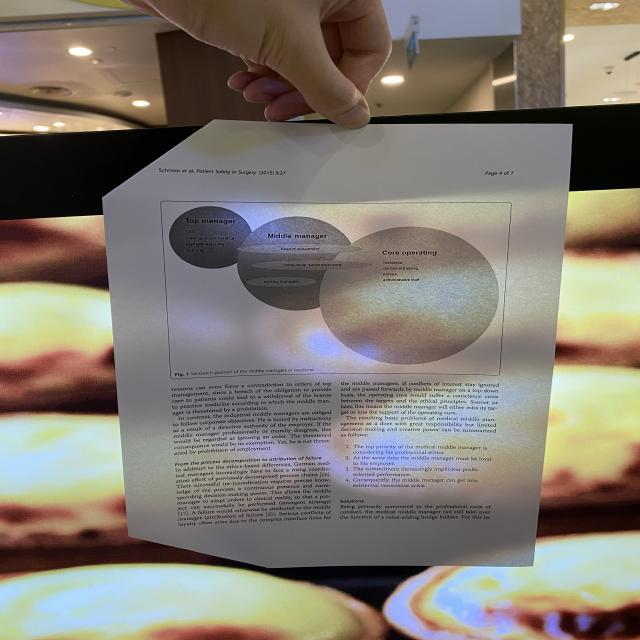document: (103, 120, 572, 568)
